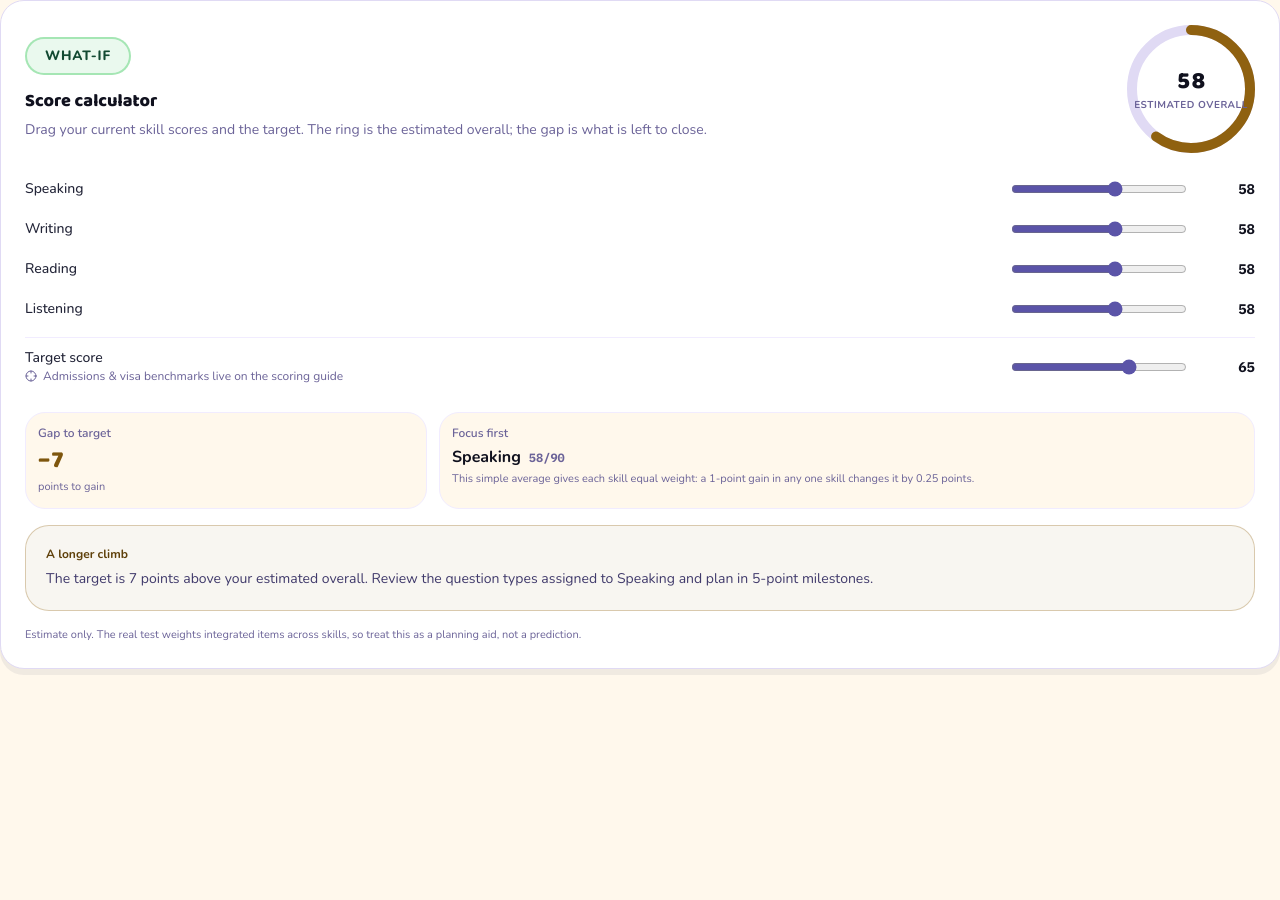
Test: ScoreCalculator › says how many points the weakest skill needs
Set the slider labelled "Speaking" to "61" at (1121, 189), box x1=1011 y1=181 x2=1187 y2=197
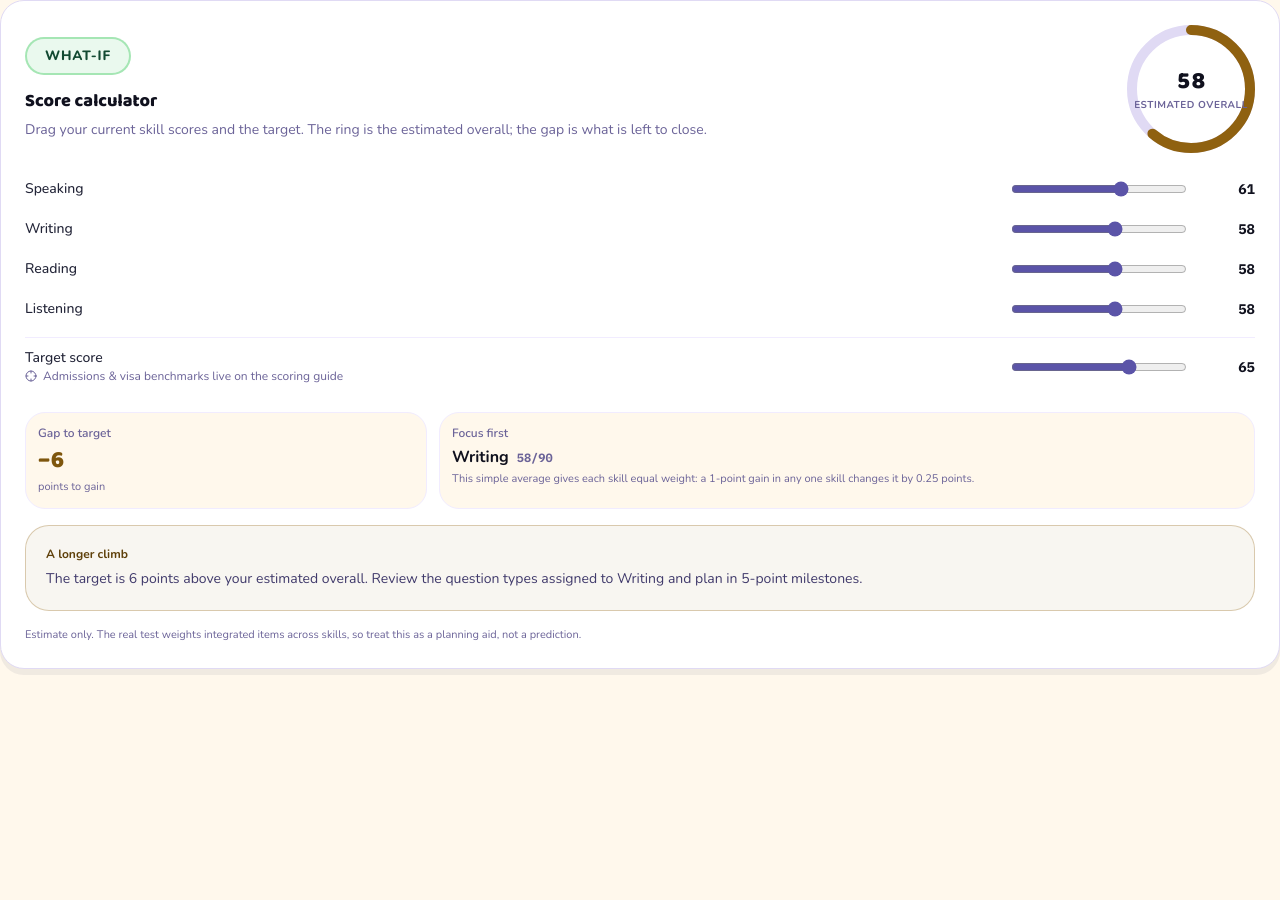
Set the slider labelled "Writing" to "61" at (1121, 229), box x1=1011 y1=221 x2=1187 y2=237
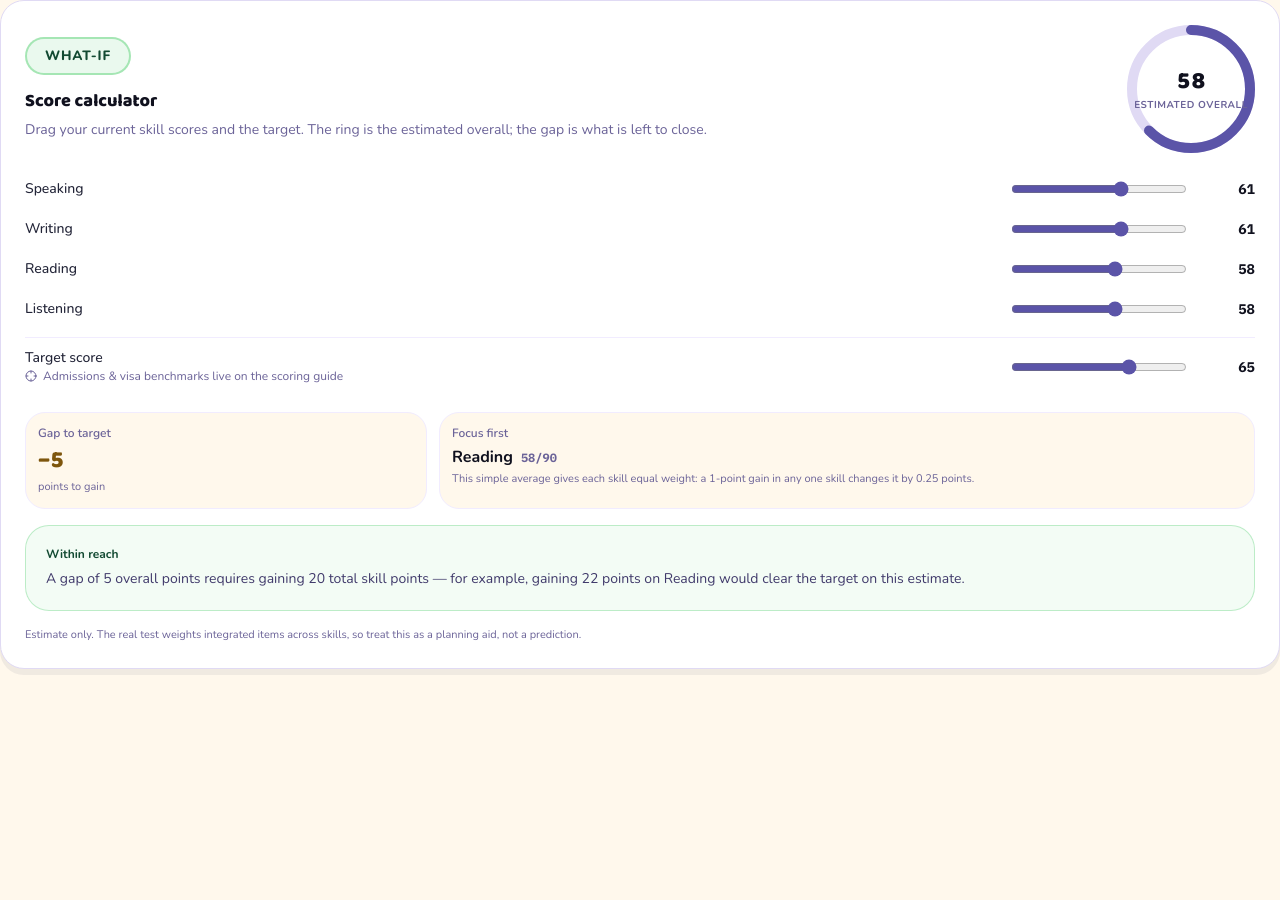
Set the slider labelled "Reading" to "61" at (1121, 269), box x1=1011 y1=261 x2=1187 y2=277
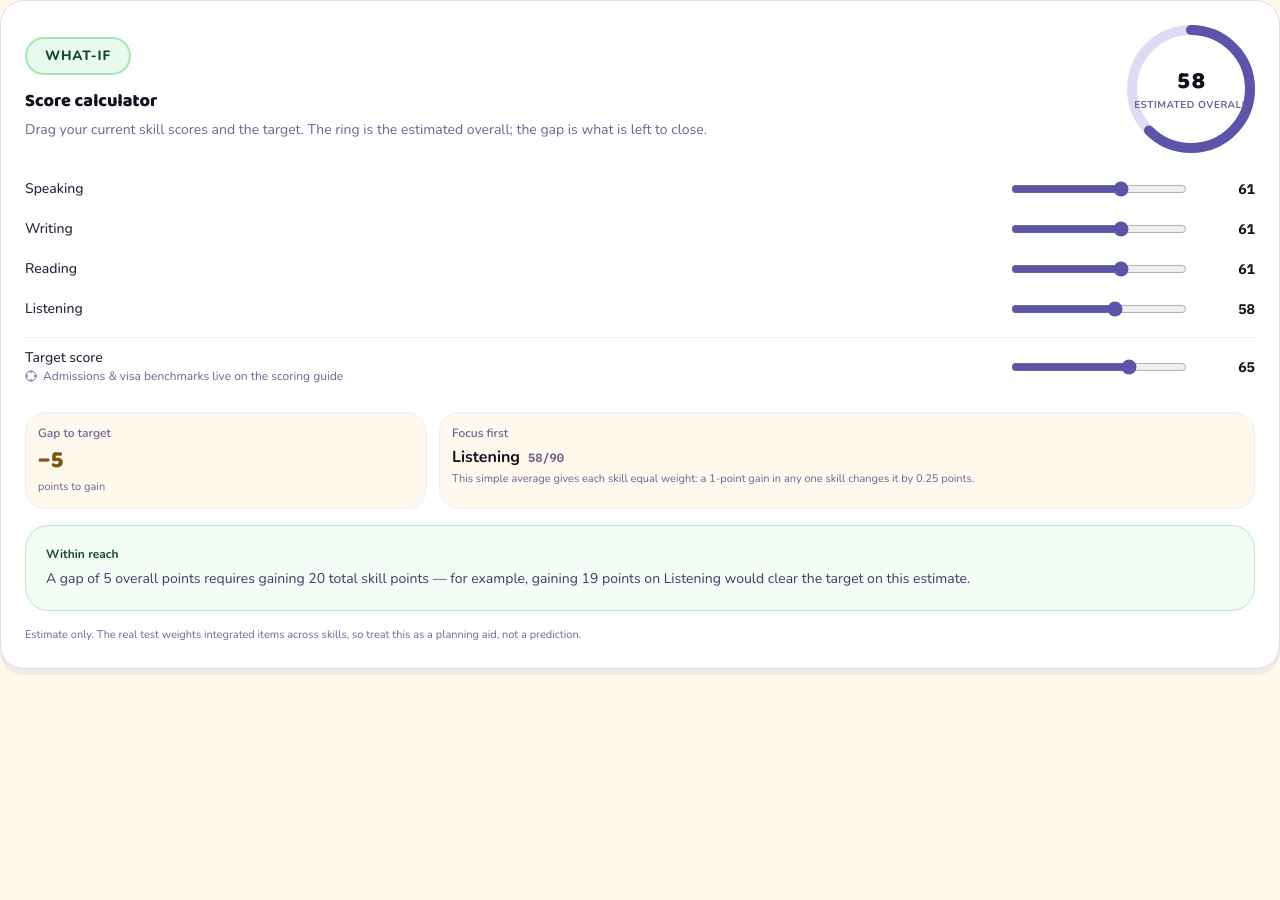
Set the slider labelled "Listening" to "61" at (1121, 309), box x1=1011 y1=301 x2=1187 y2=317
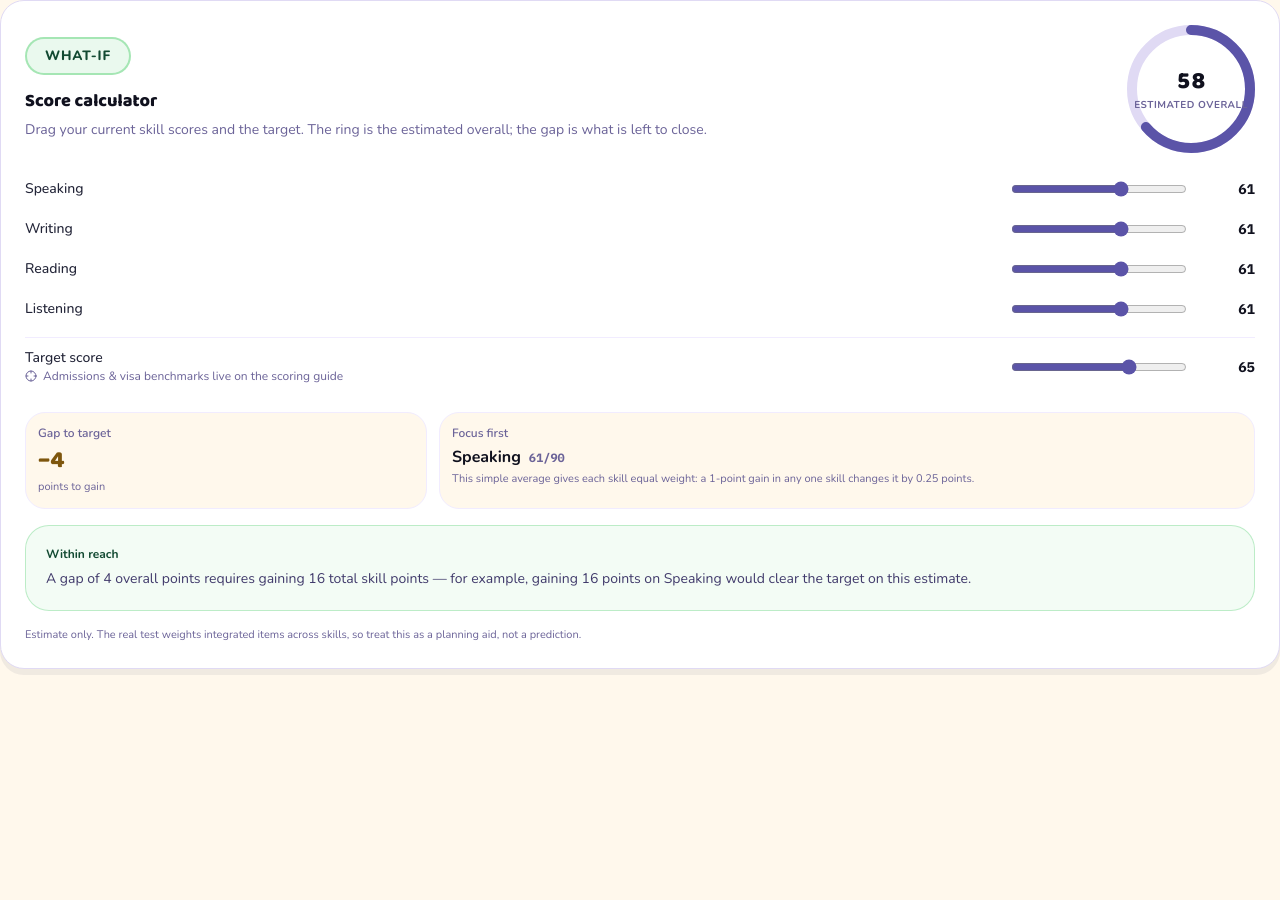
Result: the text "gaining 16 points on Speaking" is shown at x1=46 y1=568 x2=971 y2=588
